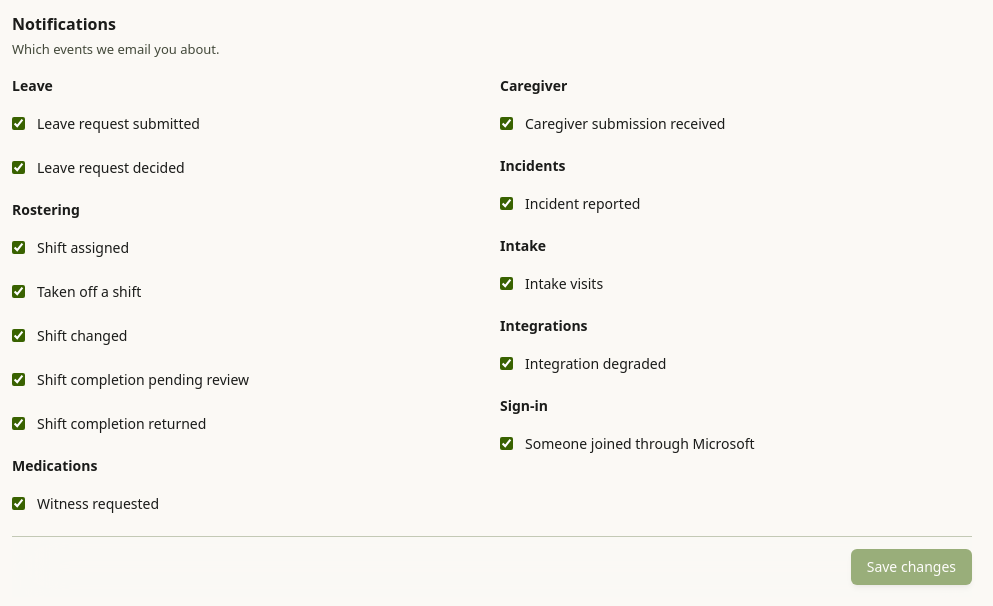
NotificationPreferencesTab › says in the foot why a save was refused, and keeps the ticks as they were left
This screenshot has width=993, height=606.
Click the checkbox labelled "Leave request submitted" at [18, 124], box top-left (12, 117), bottom-right (25, 130)
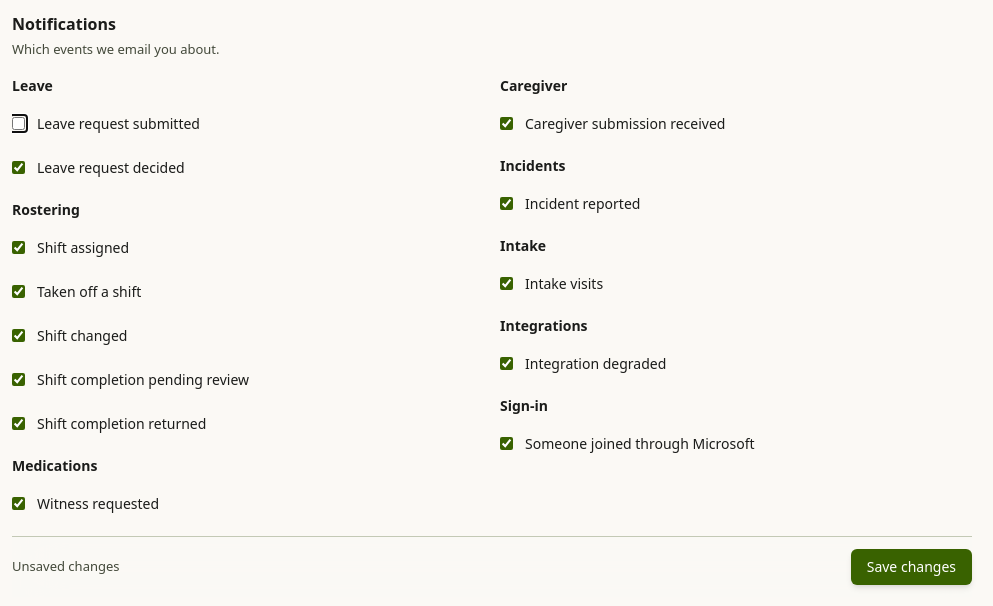
Click the button "Save changes" at [911, 566], box top-left (851, 548), bottom-right (972, 584)
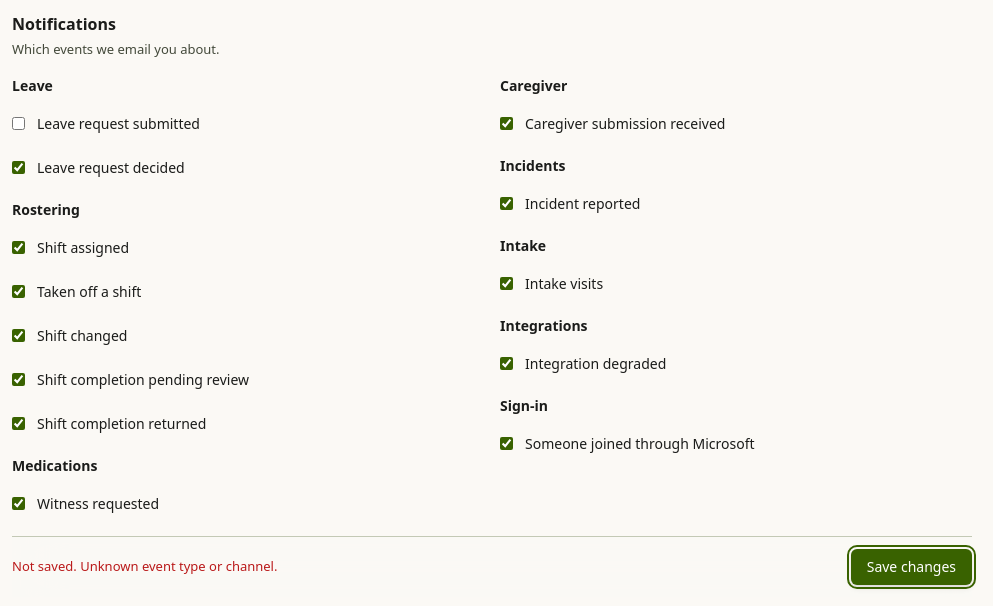
Check: the checkbox labelled "Leave request submitted" is not checked, box top-left (12, 117), bottom-right (25, 130)
Check: the button "Save changes" is enabled, box top-left (851, 548), bottom-right (972, 584)
Check: the message reads "Not saved. Unknown event type or channel.", box top-left (12, 557), bottom-right (278, 575)
